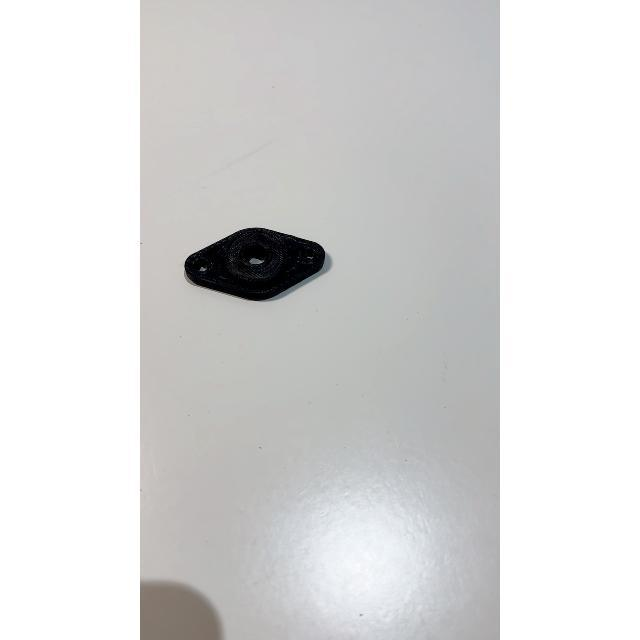Pieza2: (176, 220, 338, 306)
